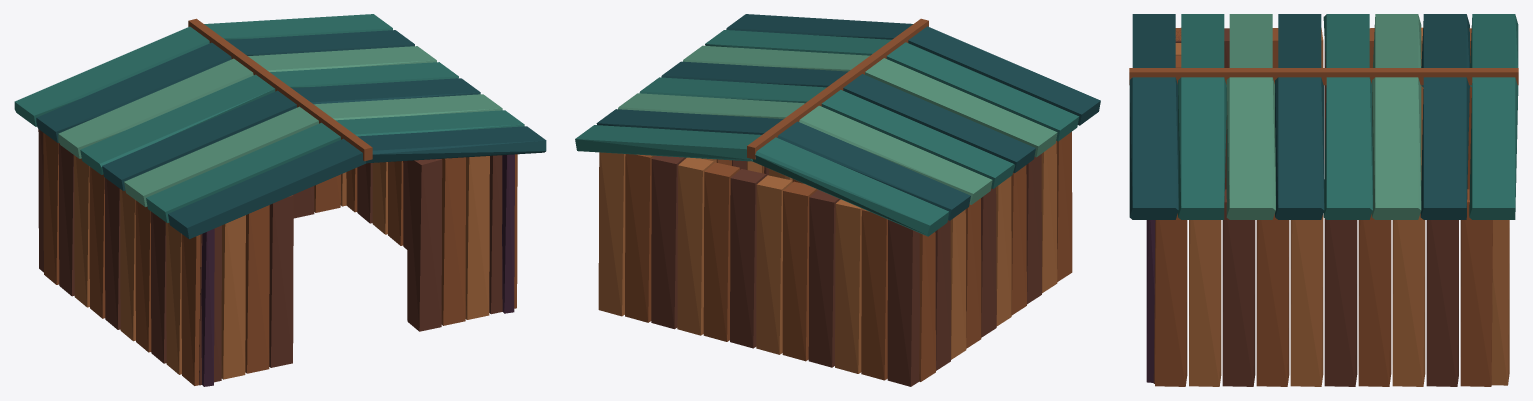
The model's file is grove_shed-lod1.glb.
The picture shows the model from 3 angles, left to right: view 1: azimuth 30°, elevation 25°; view 2: azimuth 150°, elevation 25°; view 3: azimuth 270°, elevation 25°; orthographic projection. The views are drawn at different scales.
Parts seen in each view (by area): view 1: grove_shed; view 2: grove_shed; view 3: grove_shed.
Boxes of the visible parts, box(x1,y1,x2,y2) form: grove_shed: box(14, 14, 546, 386); grove_shed: box(575, 14, 1100, 386); grove_shed: box(1129, 14, 1518, 386).
Bounding box in the file's own units: 6.63 × 3.65 × 5.62.
